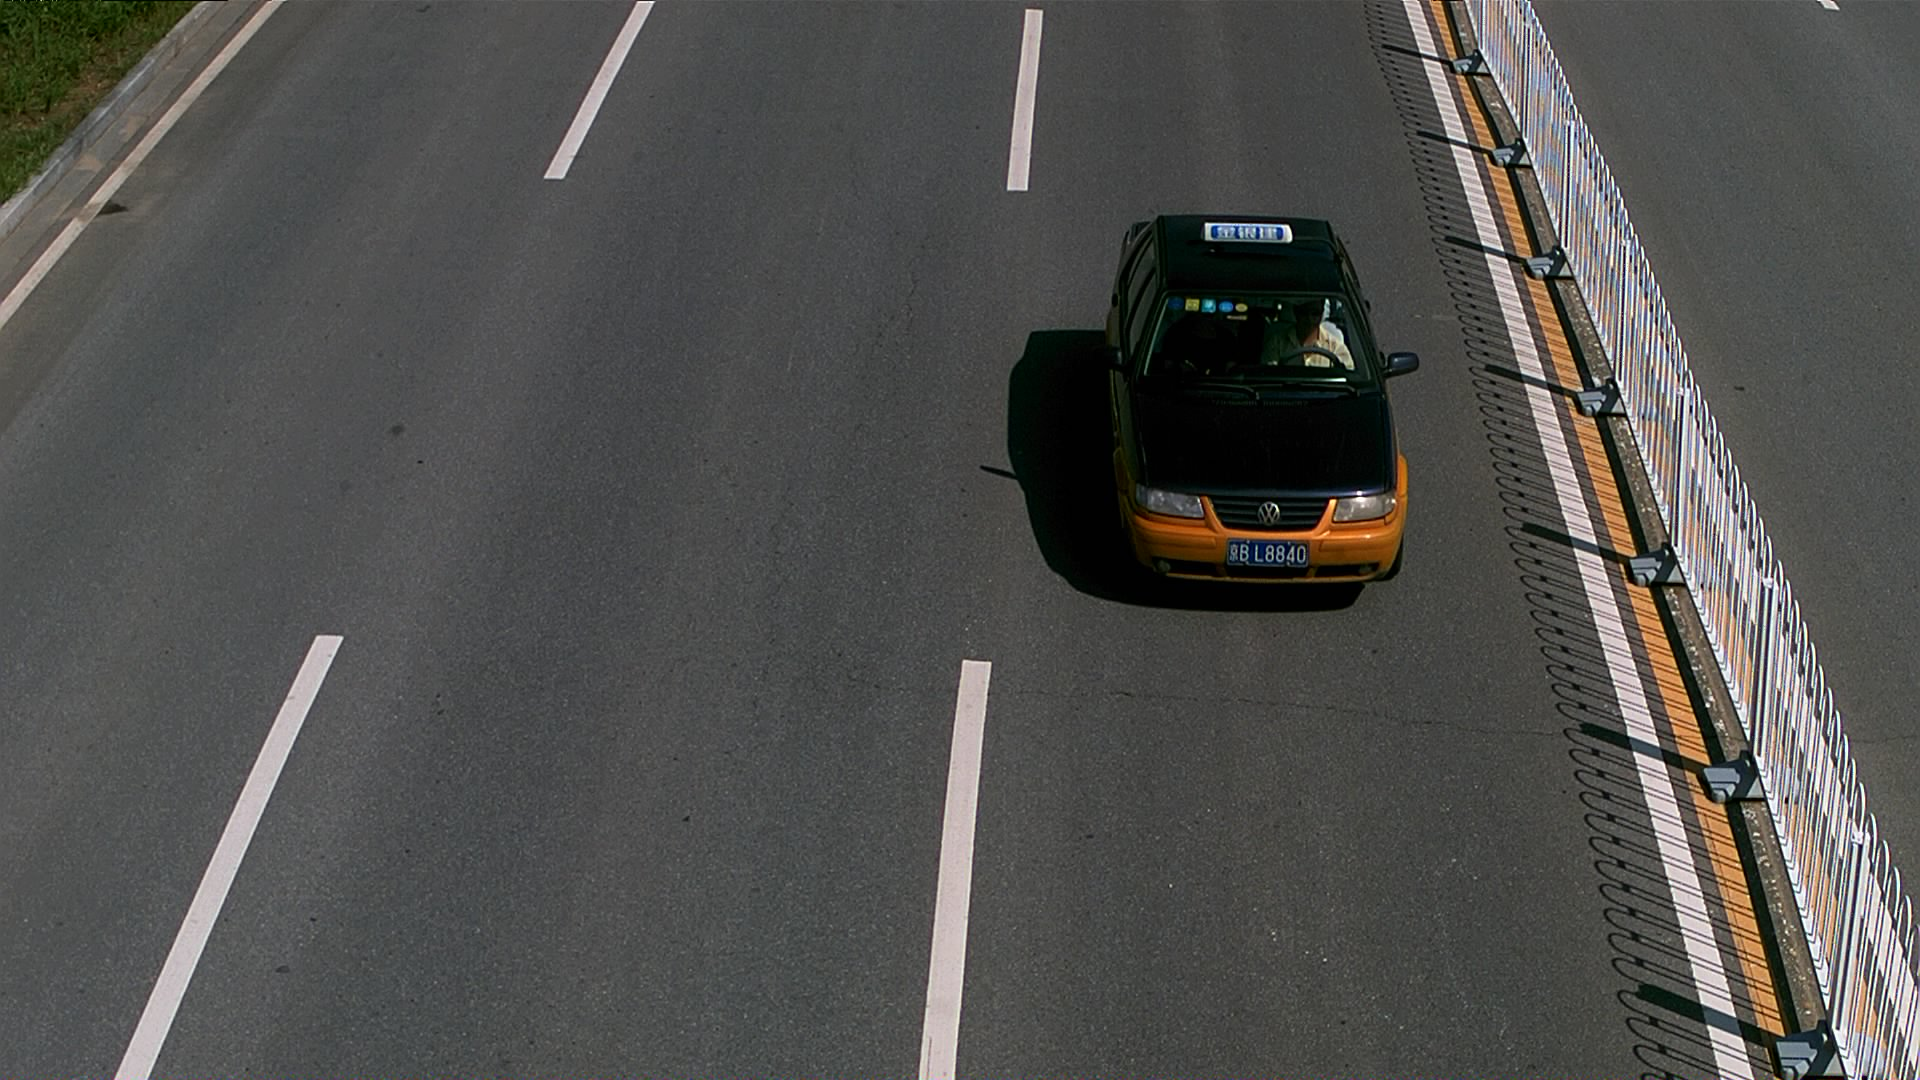car: (1071, 193, 1433, 616)
